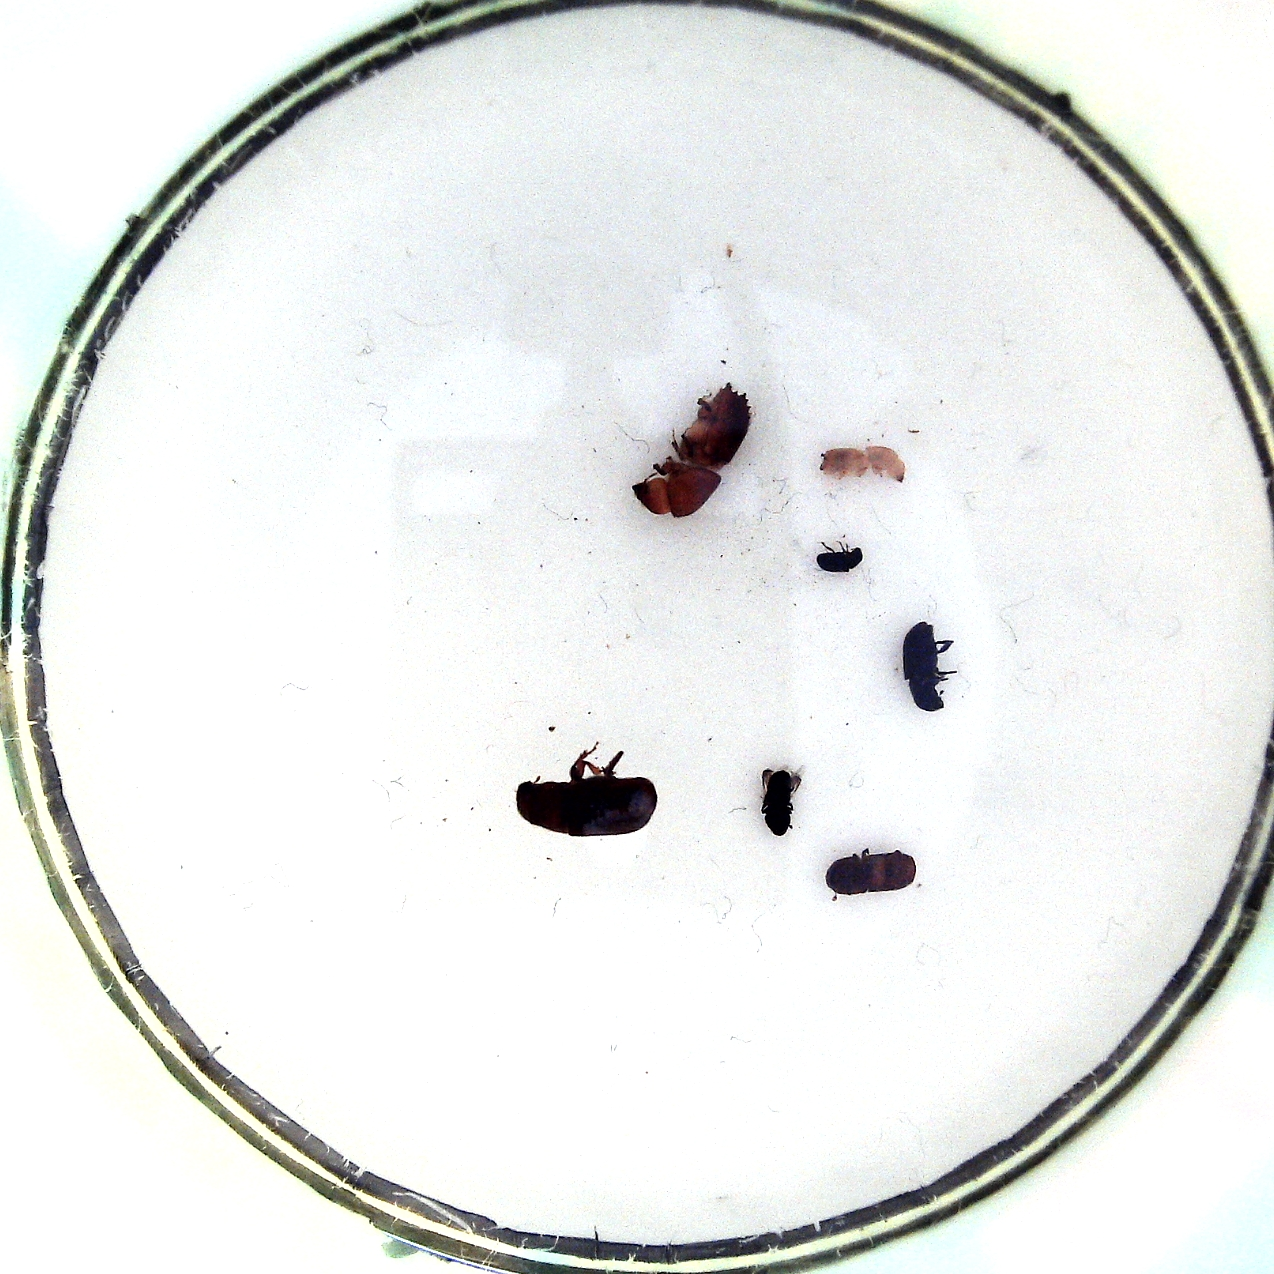Boerner: (631, 381, 756, 521)
Leconte: (511, 738, 665, 843)
Linnaeus: (822, 845, 924, 902)
acuminatus: (812, 437, 911, 487)
armandi: (896, 617, 958, 715)
coleoptera: (750, 758, 807, 842), (807, 532, 868, 574)
